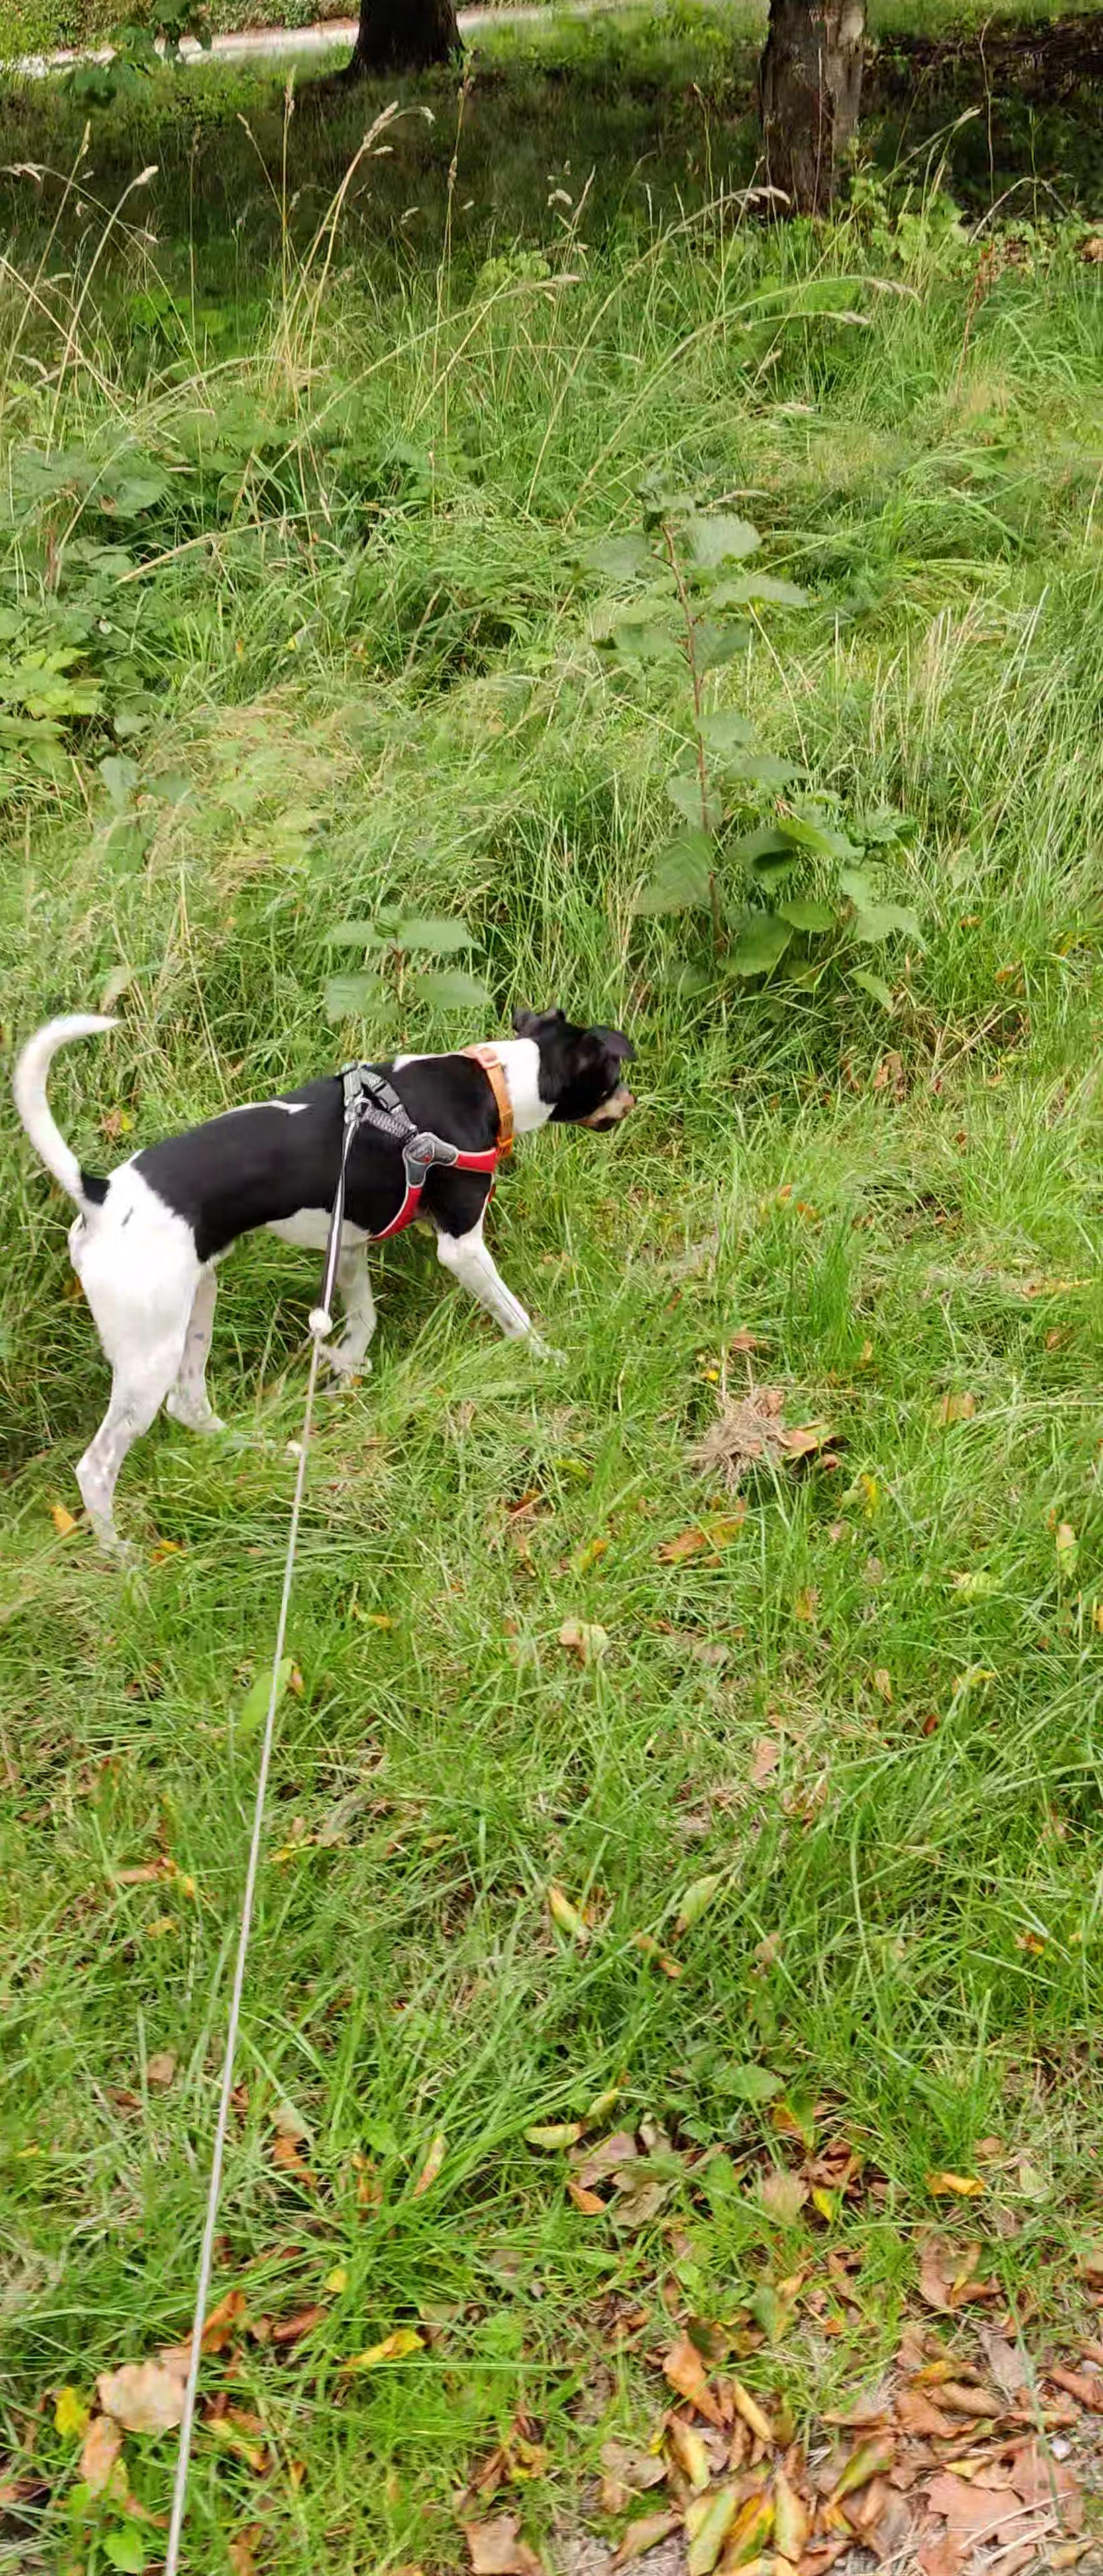Dog: (8, 1002, 641, 1562)
